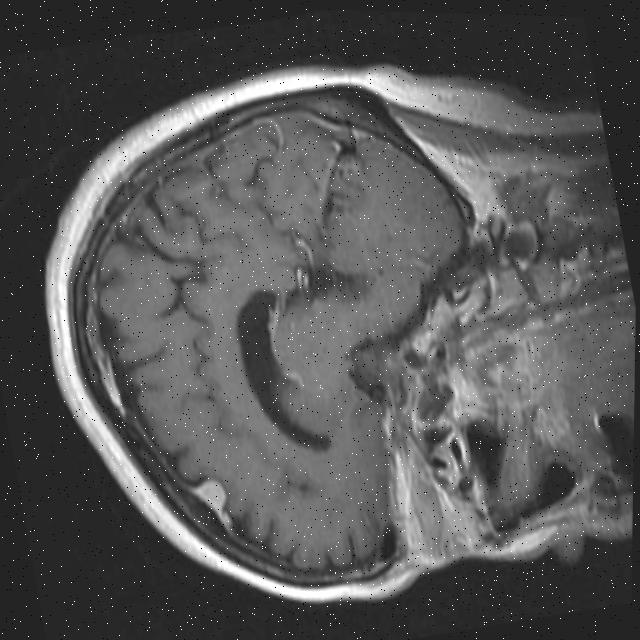Meningioma: (187, 473, 239, 541)
